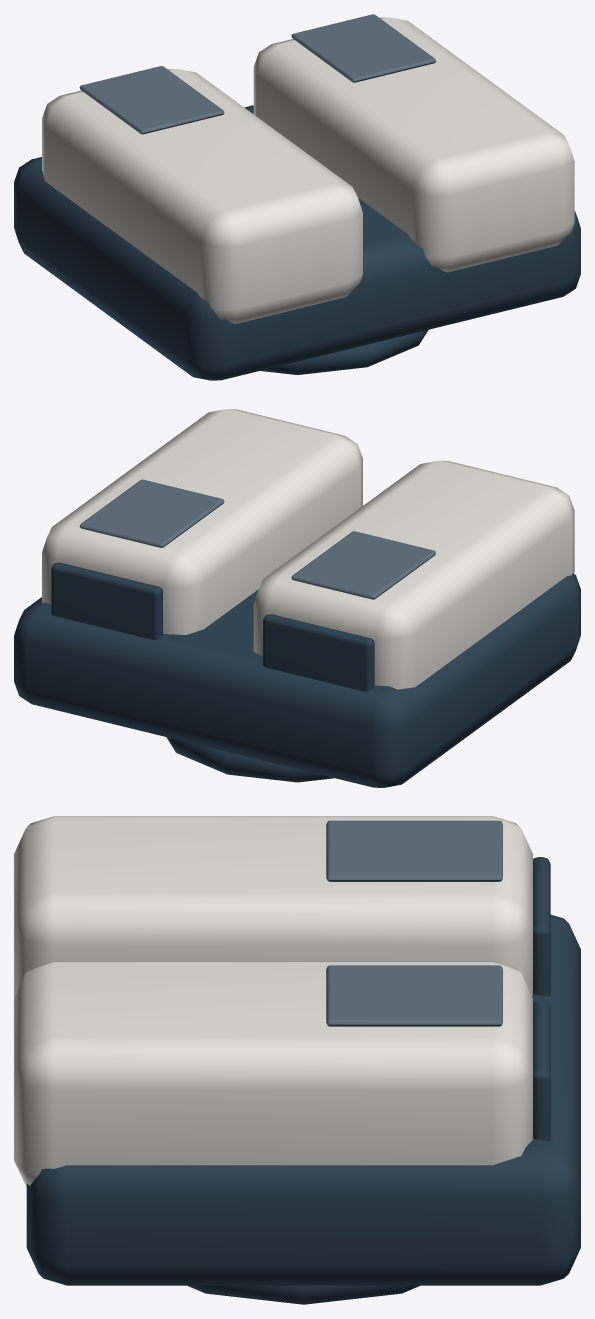
File: missile.glb
3 renders of one model, top to bottom at view 1: azimuth 30°, elevation 25°; view 2: azimuth 150°, elevation 25°; view 3: azimuth 270°, elevation 25°, orthographic. The views are drawn at different scales.
Visible parts, largest first — view 1: Unused_MissileBay, MissileBay, PodCradle, BayRecess, Unused_BayRecess, RotationBearing; view 2: PodCradle, Unused_MissileBay, MissileBay, LaunchOpening, Unused_LaunchOpening, BayRecess, Unused_BayRecess, RotationBearing; view 3: MissileBay, PodCradle, Unused_MissileBay, BayRecess, Unused_BayRecess, RotationBearing, Unused_LaunchOpening, LaunchOpening.
Boxes of the visible parts, box(x1,y1,x2,y2) form: Unused_MissileBay: box(42, 69, 362, 323); MissileBay: box(253, 17, 574, 272); PodCradle: box(14, 105, 580, 380); BayRecess: box(291, 14, 435, 82); Unused_BayRecess: box(79, 66, 224, 134); RotationBearing: box(260, 330, 428, 374); PodCradle: box(14, 573, 580, 787); Unused_MissileBay: box(253, 460, 574, 689); MissileBay: box(42, 409, 362, 634); LaunchOpening: box(51, 562, 162, 639); Unused_LaunchOpening: box(263, 614, 374, 691); BayRecess: box(79, 479, 224, 547); Unused_BayRecess: box(291, 531, 435, 599); RotationBearing: box(166, 737, 334, 782); MissileBay: box(14, 961, 532, 1186); PodCradle: box(26, 914, 580, 1285); Unused_MissileBay: box(14, 816, 532, 998); BayRecess: box(326, 965, 502, 1026); Unused_BayRecess: box(326, 820, 502, 881); RotationBearing: box(187, 1285, 419, 1304); Unused_LaunchOpening: box(533, 857, 550, 996); LaunchOpening: box(533, 1002, 550, 1141).
Size of the model in its own units: 1.26 by 0.6705 by 1.12.
